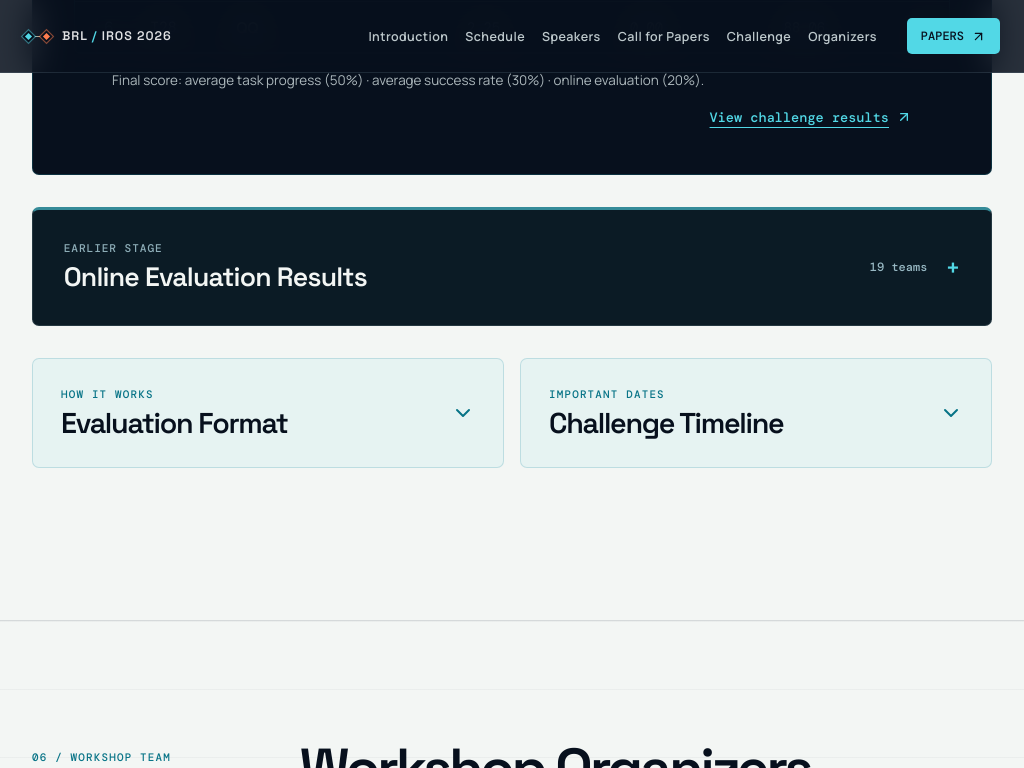
Test: workshop landing page › keeps the homepage evaluation details closed until each disclosure is opened
(page scrolled)
Click the heading "Evaluation Format": (174,424) [61,408,288,439]
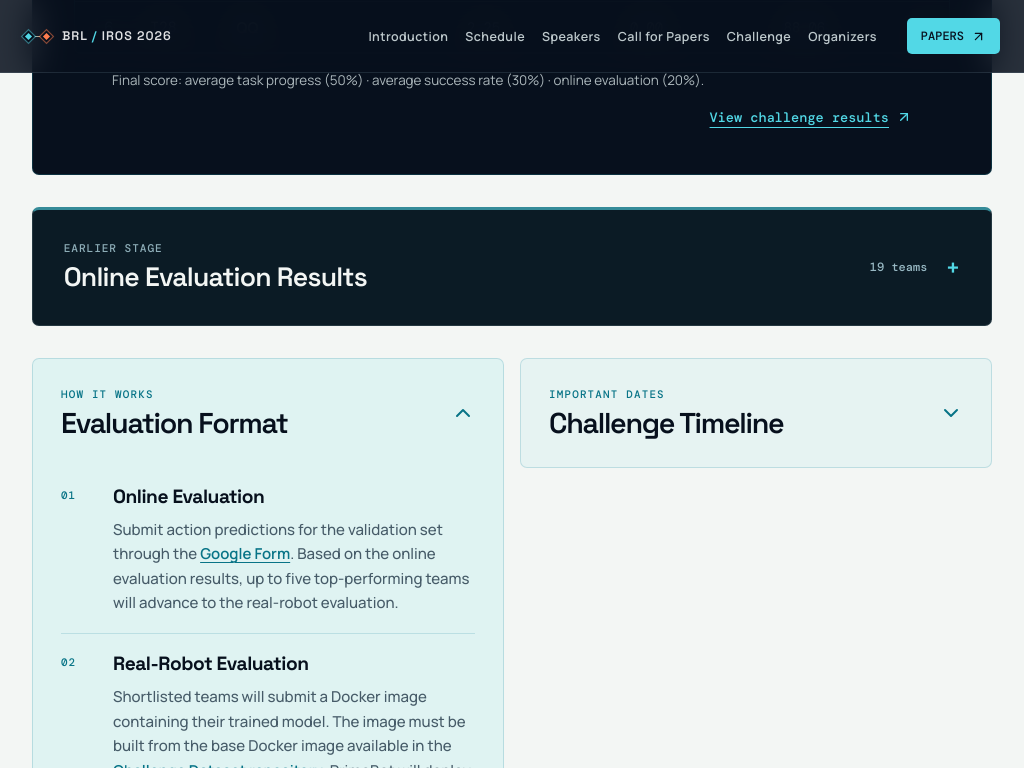
Result: the list item with test id "challenge-stage" that starts with "Online Evaluation" is shown at [61,467,475,633]
Click the heading "Challenge Timeline": (666,424) [549,408,783,439]
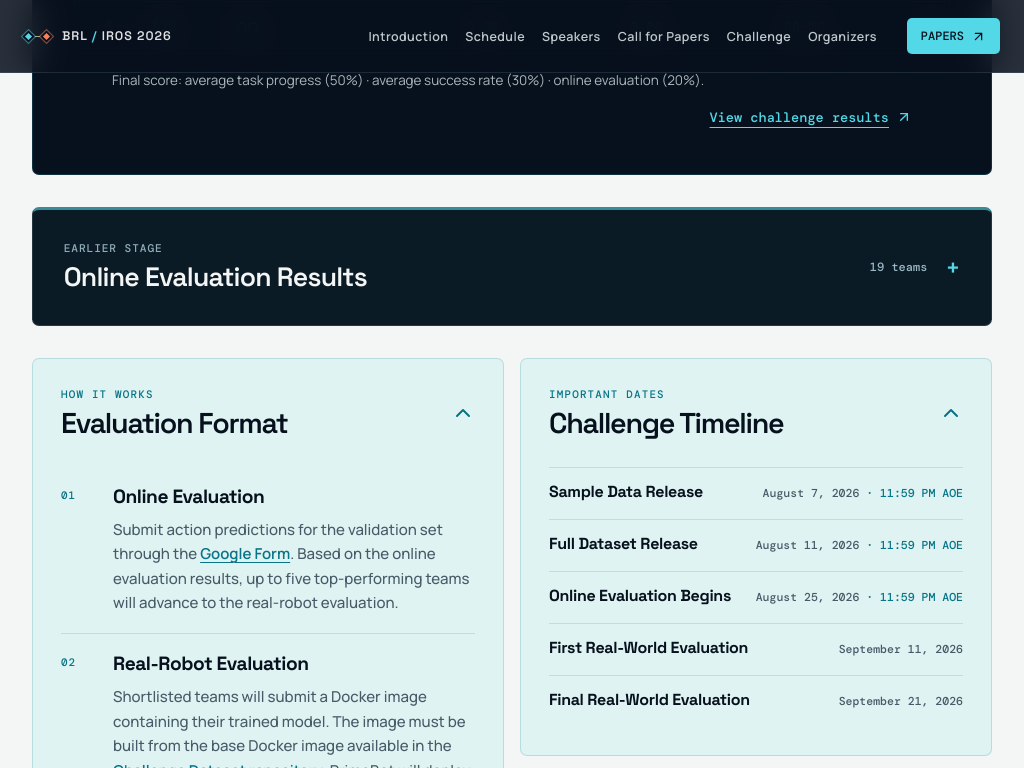
Result: the 1st list item with test id "challenge-stage" is shown at [61,467,475,633]
Result: the element with class "challenge-disclosure__body" that starts with "Sample Data Release" is shown at [521,467,991,755]
Result: the list item with test id "challenge-milestone" that starts with "Sample Data Release" is shown at [549,467,963,519]
